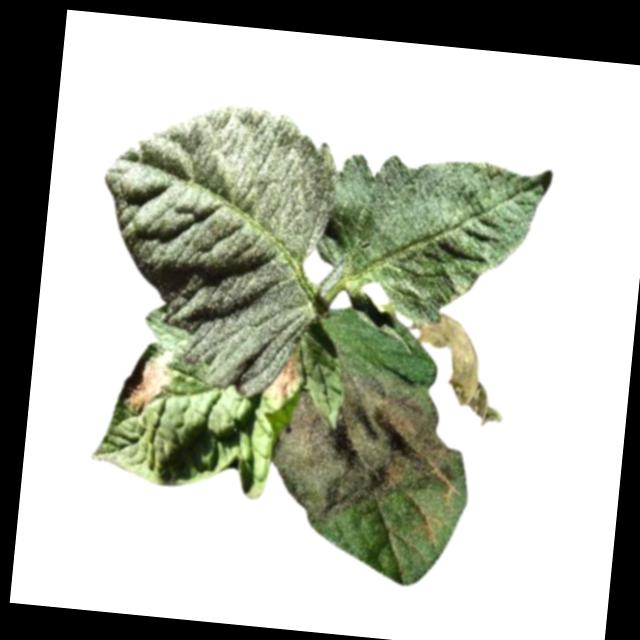Late_blight: (264, 365, 458, 543), (401, 311, 514, 429), (120, 350, 172, 414), (263, 350, 302, 403)
healthy: (85, 91, 342, 403), (310, 145, 554, 333)
